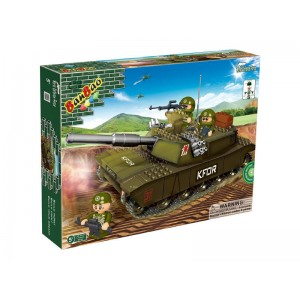Battle Tank: (96, 122, 253, 210)
